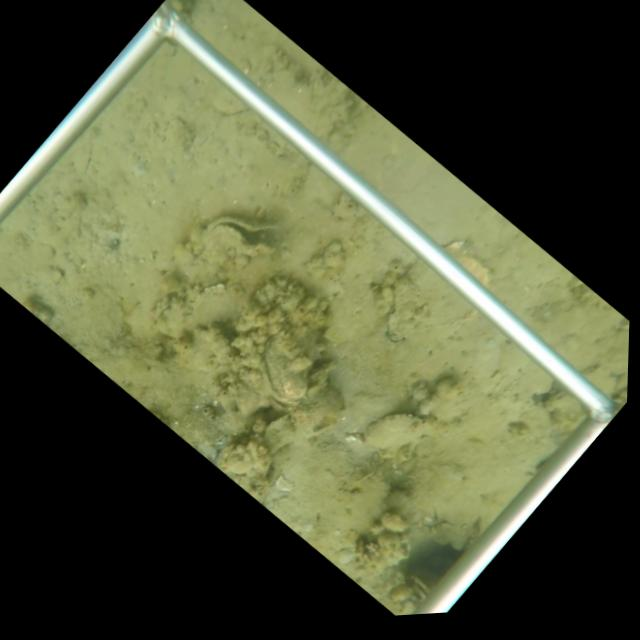Oyster-Closed: (360, 408, 426, 460)
Oyster-Indeterminate: (383, 258, 477, 344), (261, 335, 308, 401)
Oyster-Open: (204, 213, 279, 259)
